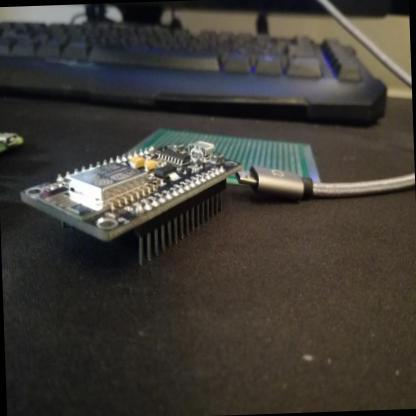ESP8266: (17, 136, 248, 272)
